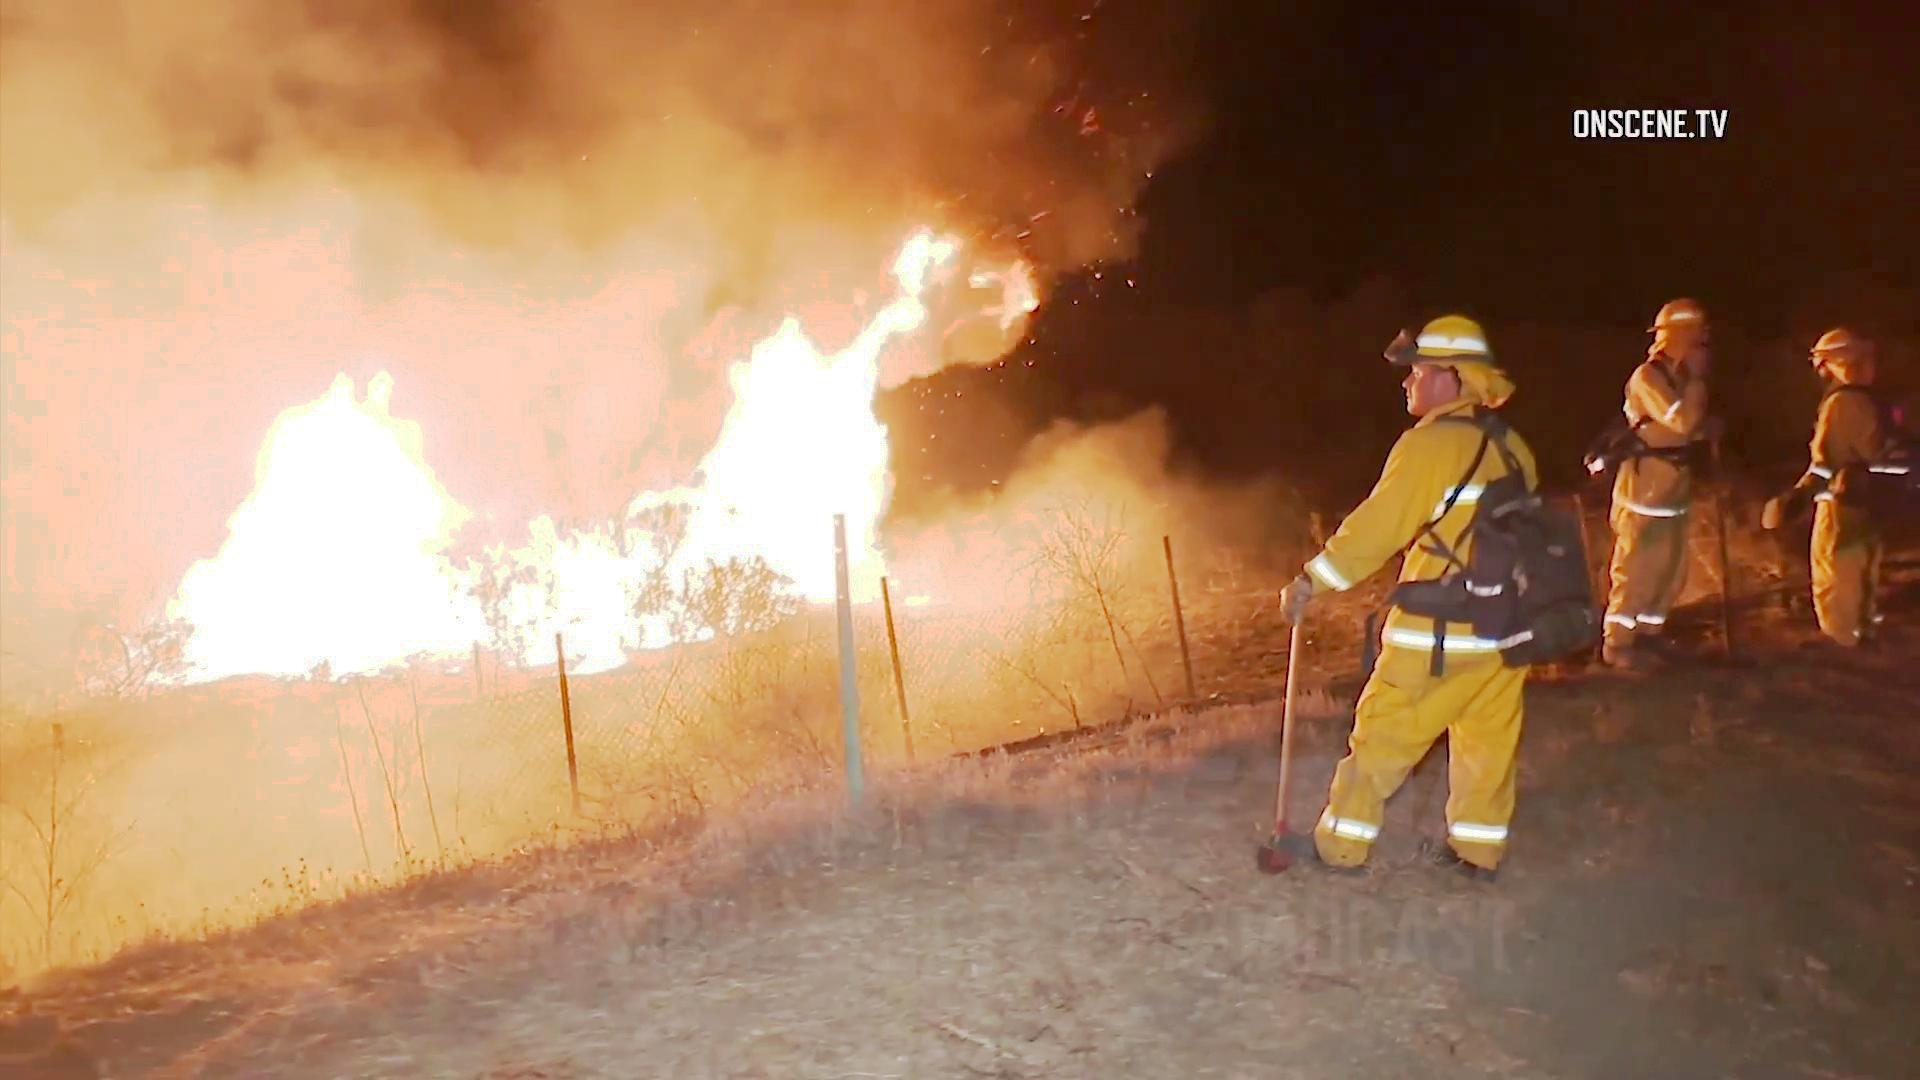fire: (95, 363, 629, 661), (649, 203, 1001, 634)
smoke: (13, 0, 641, 365)
